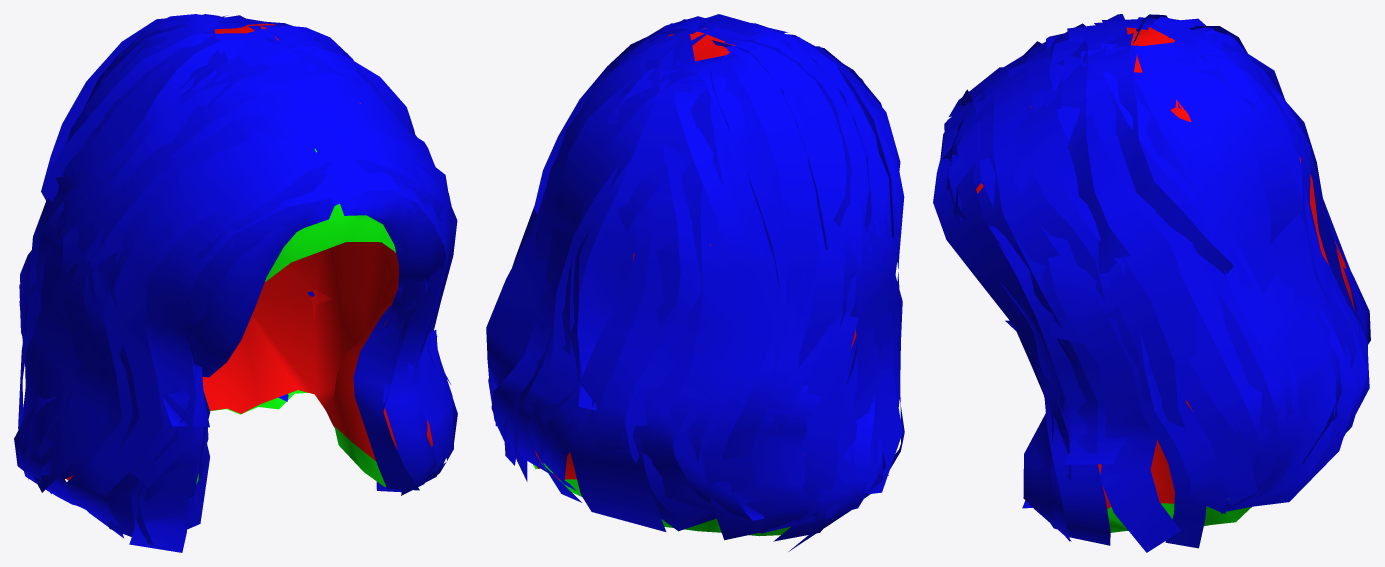
Rendered from hair_008.obj.
3 renders of one model, left to right at view 1: azimuth 30°, elevation 25°; view 2: azimuth 150°, elevation 25°; view 3: azimuth 270°, elevation 25°, orthographic. The views are drawn at different scales.
Bounding box in the file's own units: 24.12 × 29.15 × 25.62.
